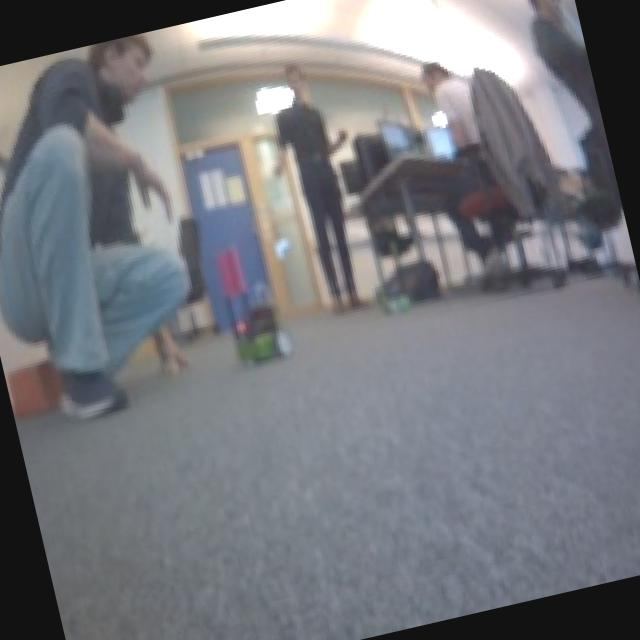robot: (220, 298, 301, 372), (370, 274, 424, 320)
target: (2, 352, 67, 419)
